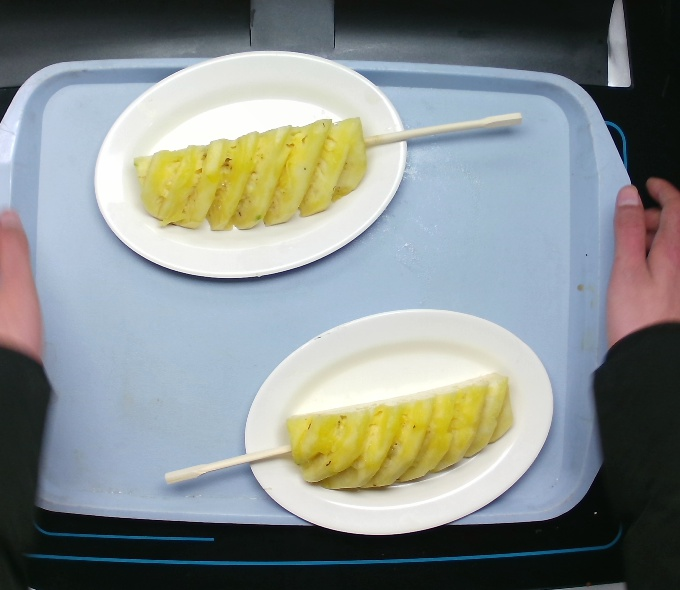wcq-BoLuo: (247, 371, 528, 505), (126, 112, 399, 244)
